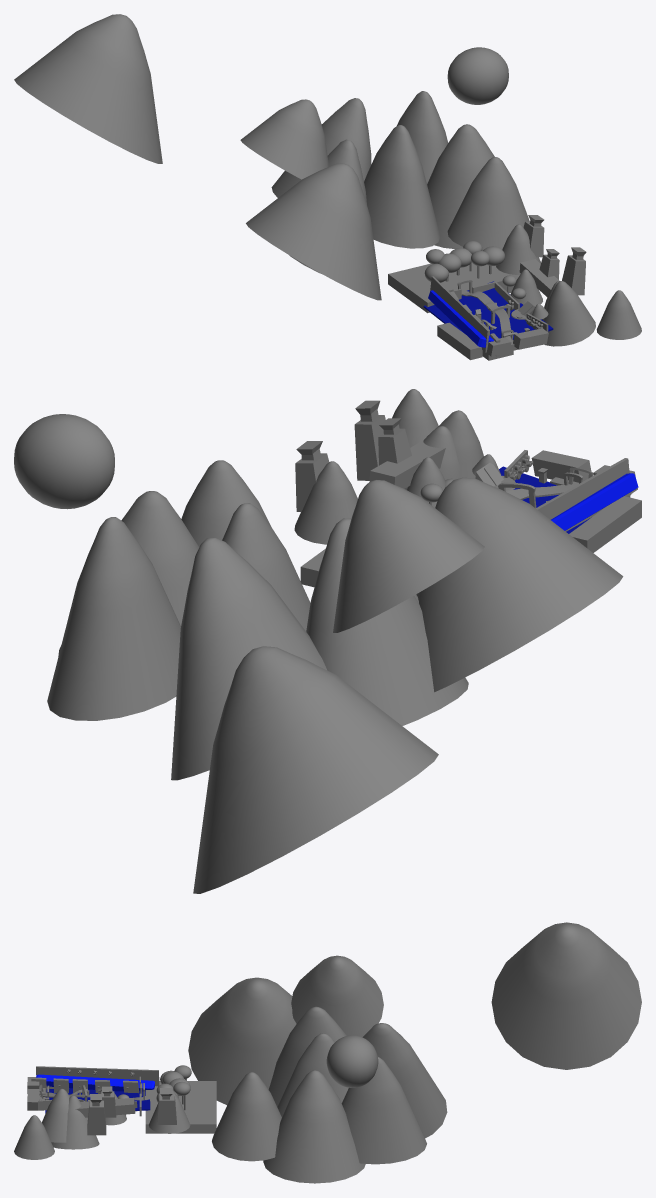
Rendered from CTRScene1.fbx.
The picture shows the model from 3 angles, top to bottom: view 1: azimuth 30°, elevation 25°; view 2: azimuth 150°, elevation 25°; view 3: azimuth 270°, elevation 25°; orthographic projection. The views are drawn at different scales.
Visible parts, largest first — view 1: Mountain1__8_, Mountain1__5_, Mountain1__21_, Mountain1__9_, Mountain1__6_, Mountain1__19_, Moon, Mountain1__22_, ThickSideWallLeft__7_, Mountain1__20_, Mountain1__13_, Mountain1__11_ (+11 smaller); view 2: Mountain1__8_, Mountain1__5_, Mountain1__20_, Mountain1__22_, Mountain1__6_, Mountain1__23_, Moon, Mountain1__19_, Mountain1__21_, Mountain1__9_, Mountain1__17_, Wall__1_ (+11 smaller); view 3: Mountain1__8_, Mountain1__5_, Mountain1__19_, Mountain1__20_, Mountain1__6_, Mountain1__9_, Mountain1__22_, Mountain1__23_, Moon, ThickSideWallLeft__7_, Mountain1__21_, Wall (+10 smaller).
Part boxes in pixels (x1,y1,x2,y2): Mountain1__8_: (14, 14, 162, 163); Mountain1__5_: (246, 163, 381, 300); Mountain1__21_: (364, 125, 439, 248); Mountain1__9_: (447, 157, 529, 250); Mountain1__6_: (240, 99, 328, 179); Mountain1__19_: (427, 124, 494, 248); Moon: (447, 47, 508, 104); Mountain1__22_: (271, 98, 371, 197); ThickSideWallLeft__7_: (388, 262, 519, 313); Mountain1__20_: (397, 91, 447, 183); Mountain1__13_: (543, 281, 595, 346); Mountain1__11_: (596, 290, 641, 339); Mountain1__8_: (193, 646, 438, 893); Mountain1__5_: (416, 477, 623, 692); Mountain1__20_: (47, 517, 180, 720); Mountain1__22_: (171, 537, 326, 780); Mountain1__6_: (333, 480, 484, 632); Mountain1__23_: (306, 518, 468, 725); Moon: (14, 414, 114, 509); Mountain1__19_: (58, 491, 199, 656); Mountain1__21_: (222, 503, 310, 631); Mountain1__9_: (181, 460, 270, 547); Mountain1__17_: (294, 461, 357, 544); Wall__1_: (569, 496, 641, 552); Mountain1__8_: (491, 922, 641, 1069); Mountain1__5_: (188, 977, 296, 1104); Mountain1__19_: (263, 1070, 365, 1183); Mountain1__20_: (341, 1057, 426, 1164); Mountain1__6_: (291, 955, 383, 1037); Mountain1__9_: (212, 1072, 281, 1161); Mountain1__22_: (362, 1023, 447, 1138); Mountain1__23_: (268, 1006, 346, 1106); Moon: (326, 1035, 378, 1087); ThickSideWallLeft__7_: (145, 1081, 216, 1133); Mountain1__21_: (277, 1033, 348, 1116); Wall: (36, 1066, 159, 1086).
Size of the model in its own units: 7517 by 3500 by 12579.
